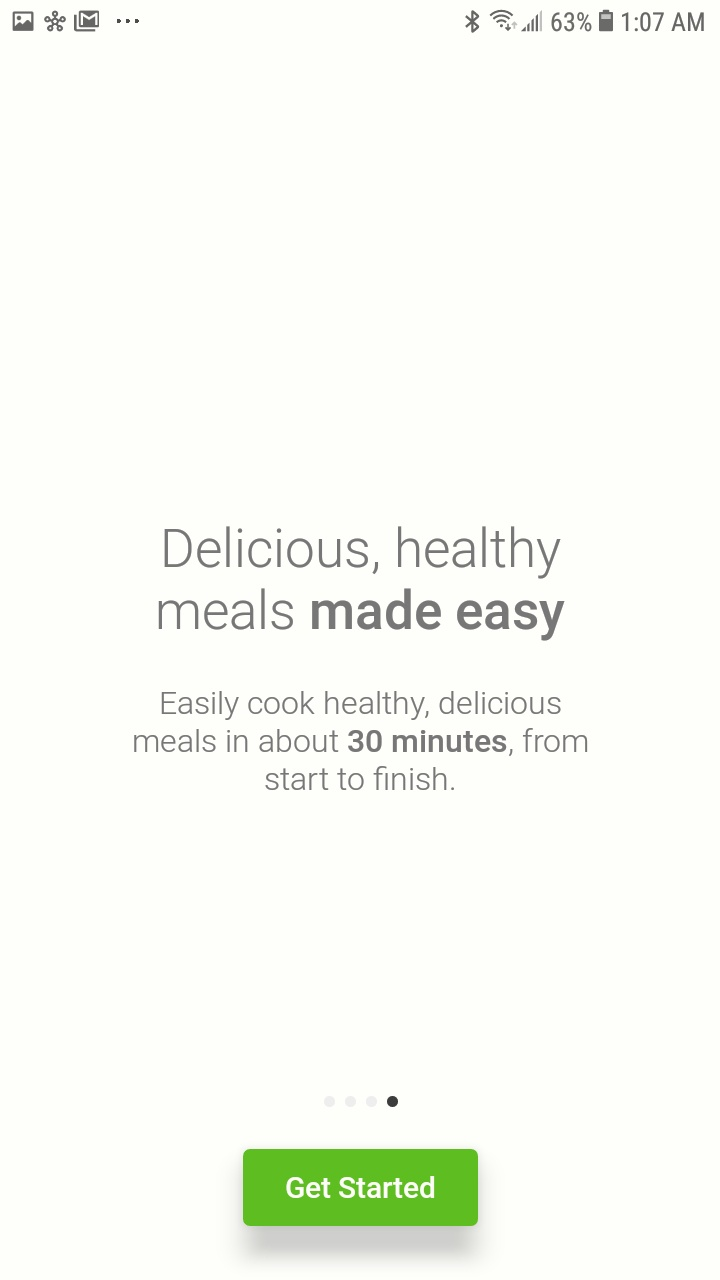PageIndicator: (323, 1095, 399, 1108)
Text: (158, 525, 566, 642), (134, 690, 589, 792)
TextButton: (243, 1148, 479, 1227)
UpperTaskBar: (1, 1, 720, 35)
